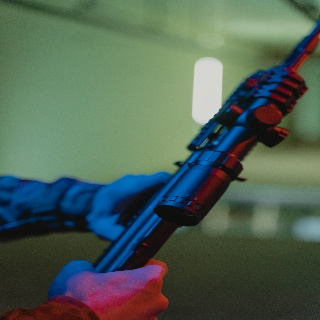rifle: (93, 15, 320, 275)
